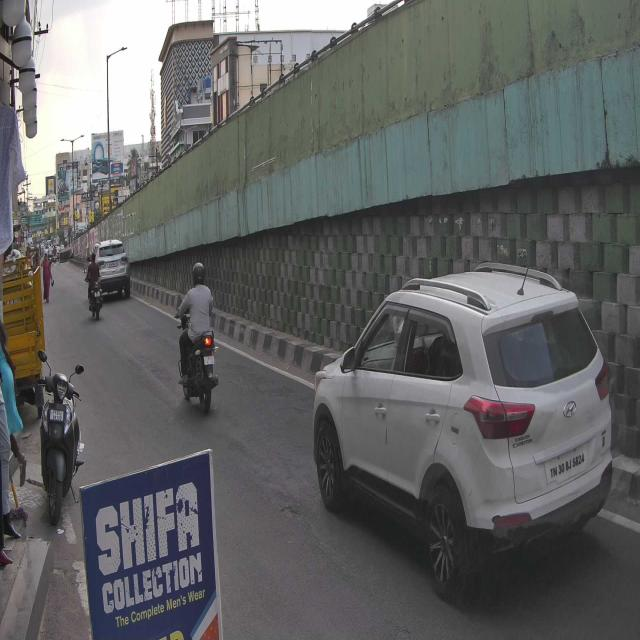single_rider: (173, 259, 222, 417)
